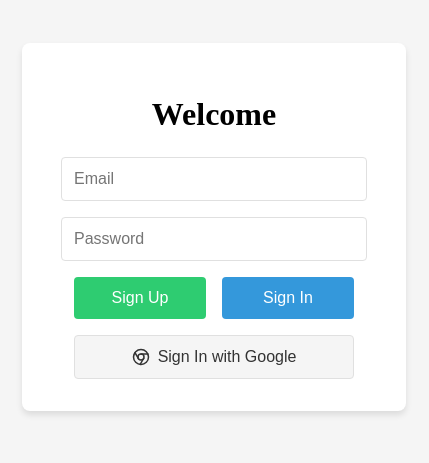
Scenario: AuthForm › Sign In › handles successful sign in
The width and height of the screenshot is (429, 463).
Type "test@example.com" into the field with placeholder "Email" at (214, 179), box 61,157 -> 367,201
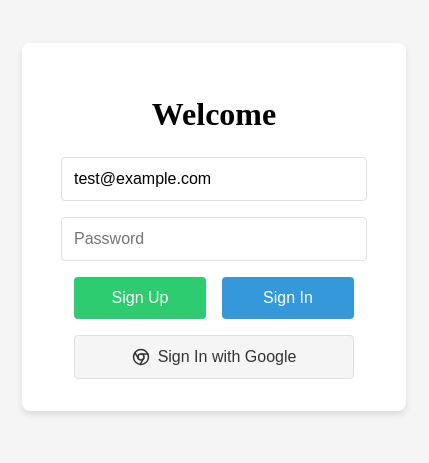
Type "password123" into the password field with placeholder "Password" at (214, 239), box 61,217 -> 367,261
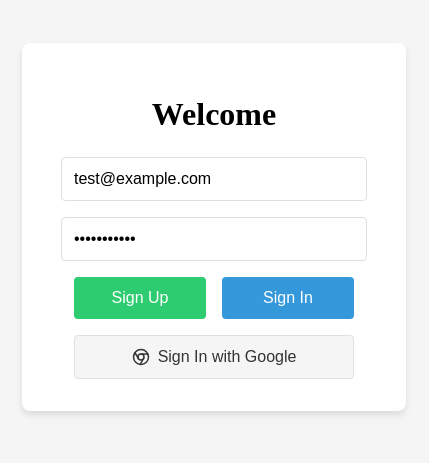
Click the button "Sign In" at (288, 298), box 222,277 -> 354,319
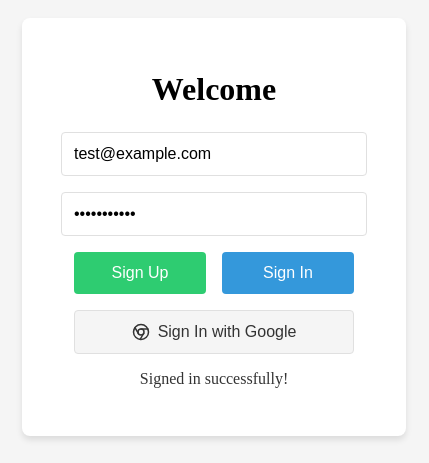
Expected: the text "Signed in successfully!" is shown, 140,370 -> 288,388
